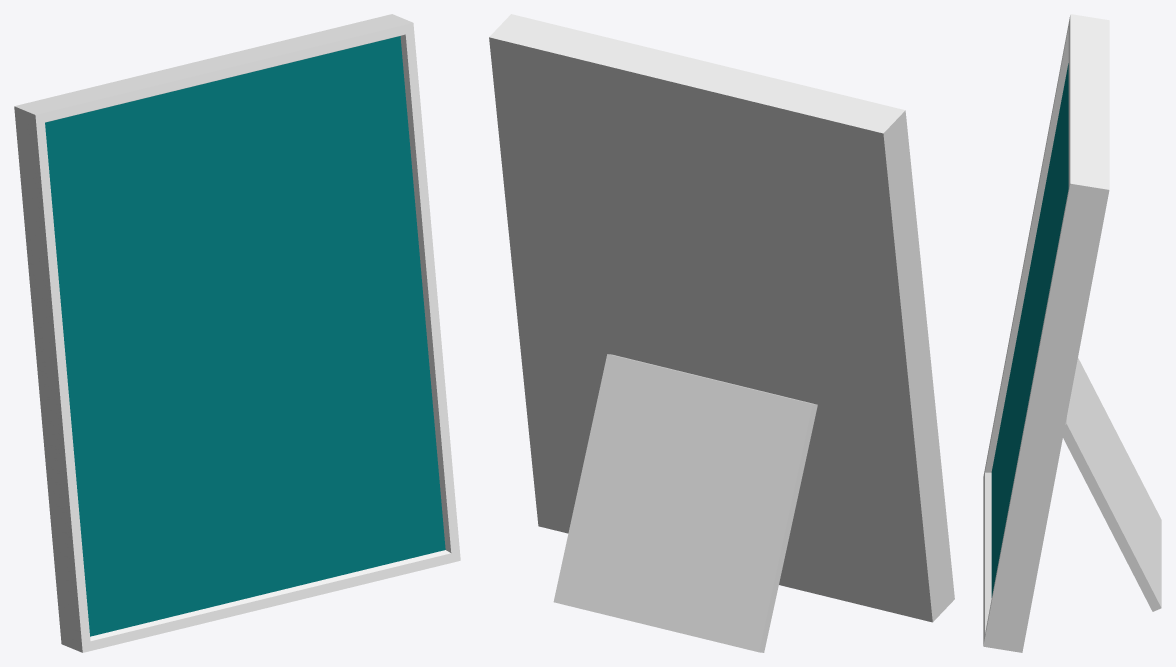
File: Picture Frame_28.fbx
The picture shows the model from 3 angles, left to right: view 1: azimuth 30°, elevation 25°; view 2: azimuth 150°, elevation 25°; view 3: azimuth 270°, elevation 25°; orthographic projection. The views are drawn at different scales.
Parts seen in each view (by area): view 1: Picture Frame_28; view 2: Picture Frame_28; view 3: Picture Frame_28.
Boxes of the visible parts, <box> form: Picture Frame_28: <box>14,14,460,652</box>; Picture Frame_28: <box>489,14,954,652</box>; Picture Frame_28: <box>983,14,1161,652</box>.
Size of the model in its own units: 0.1674 by 0.2158 by 0.0743.
